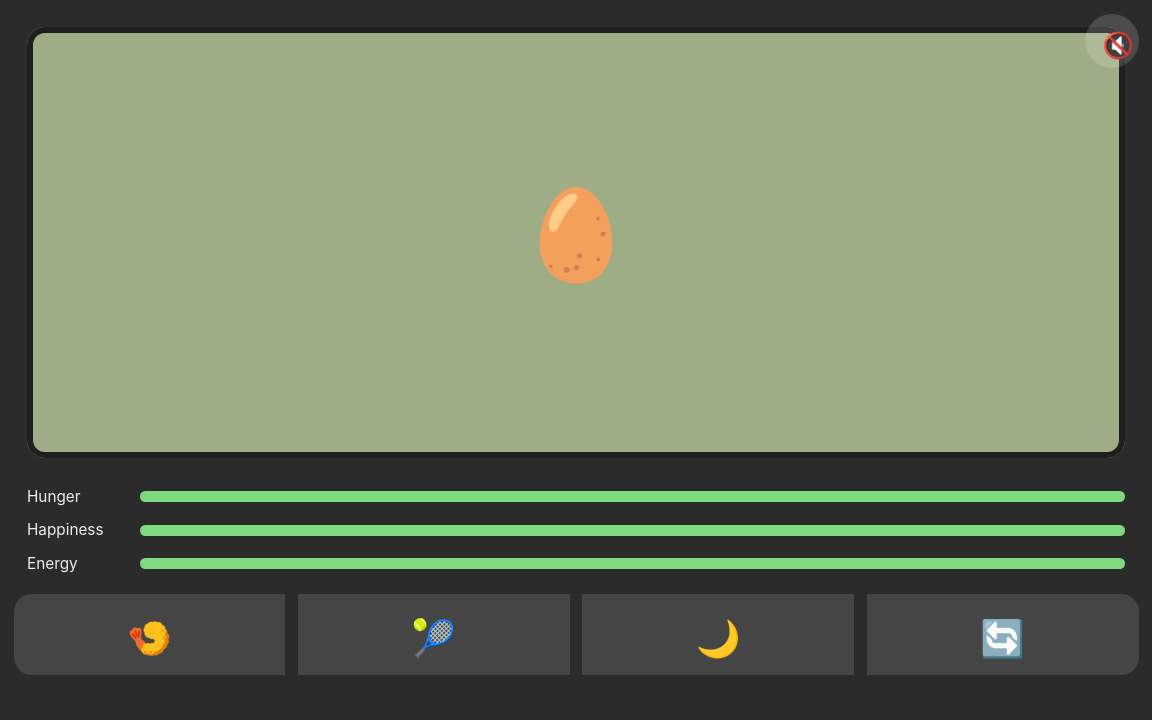
Test: Tamagotchi page › opens the minigame overlay from the palette Play button
Step 1. Click the button named "Play" → (434, 634), box [298, 594, 570, 675]
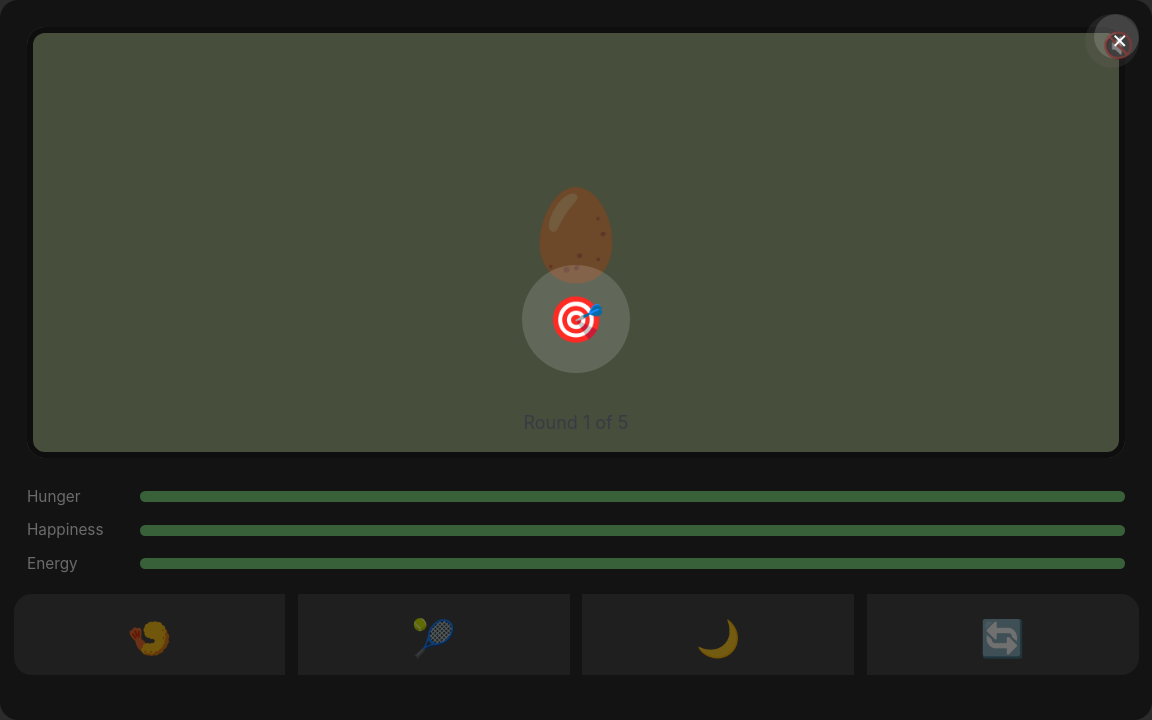
Now the dialog with test id "minigame-overlay" is shown
